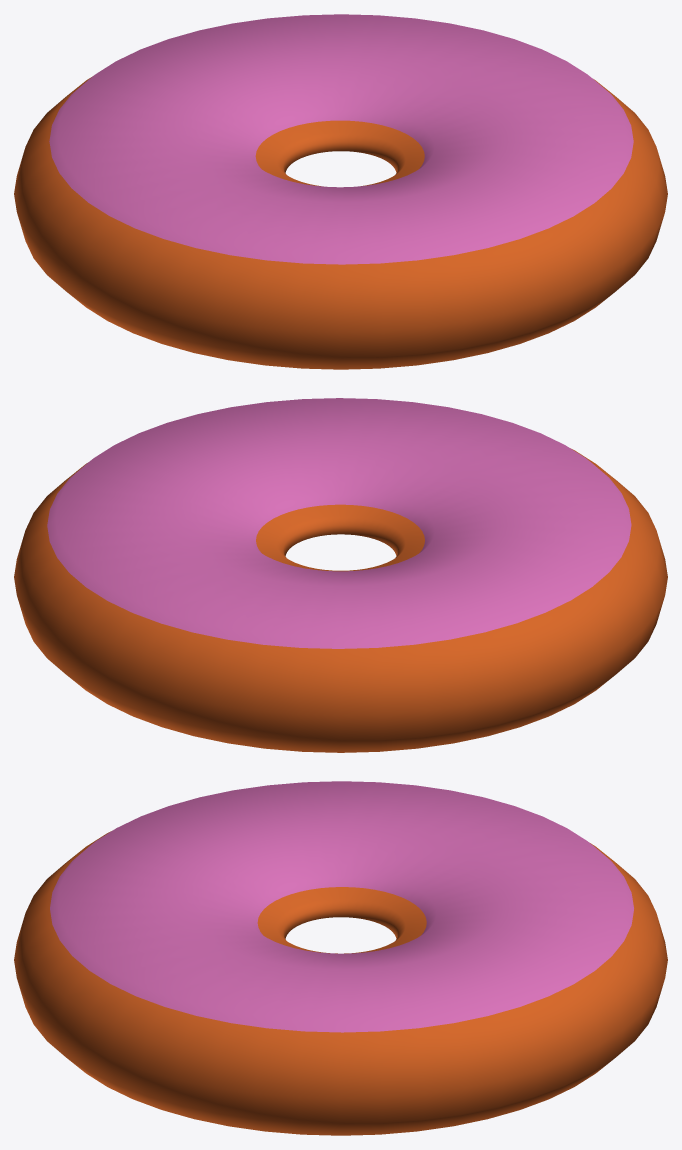
File: donut.fbx
3 renders of one model, top to bottom at view 1: azimuth 30°, elevation 25°; view 2: azimuth 150°, elevation 25°; view 3: azimuth 270°, elevation 25°, orthographic.
Parts seen in each view (by area): view 1: donut bottom; view 2: donut bottom; view 3: donut bottom.
Boxes of the visible parts, left/top/right/bottom form: donut bottom: left=14, top=14, right=667, bottom=369; donut bottom: left=14, top=398, right=667, bottom=752; donut bottom: left=14, top=781, right=667, bottom=1135.
Size of the model in its own units: 635 by 128 by 635.
